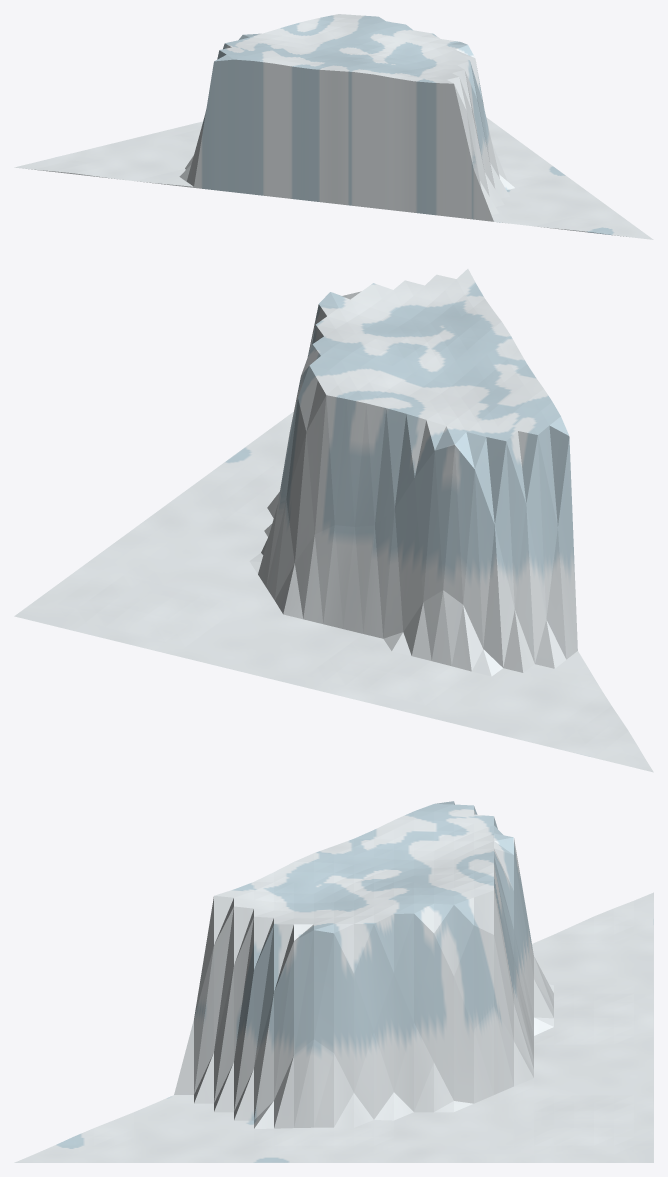
The model's file is Snow_Mountains_10_SE.obj.
3 renders of one model, top to bottom at view 1: azimuth 30°, elevation 25°; view 2: azimuth 150°, elevation 25°; view 3: azimuth 270°, elevation 25°, orthographic. The views are drawn at different scales.
Size of the model in its own units: 10 by 3.16 by 10.
1 material, 1 textured.
